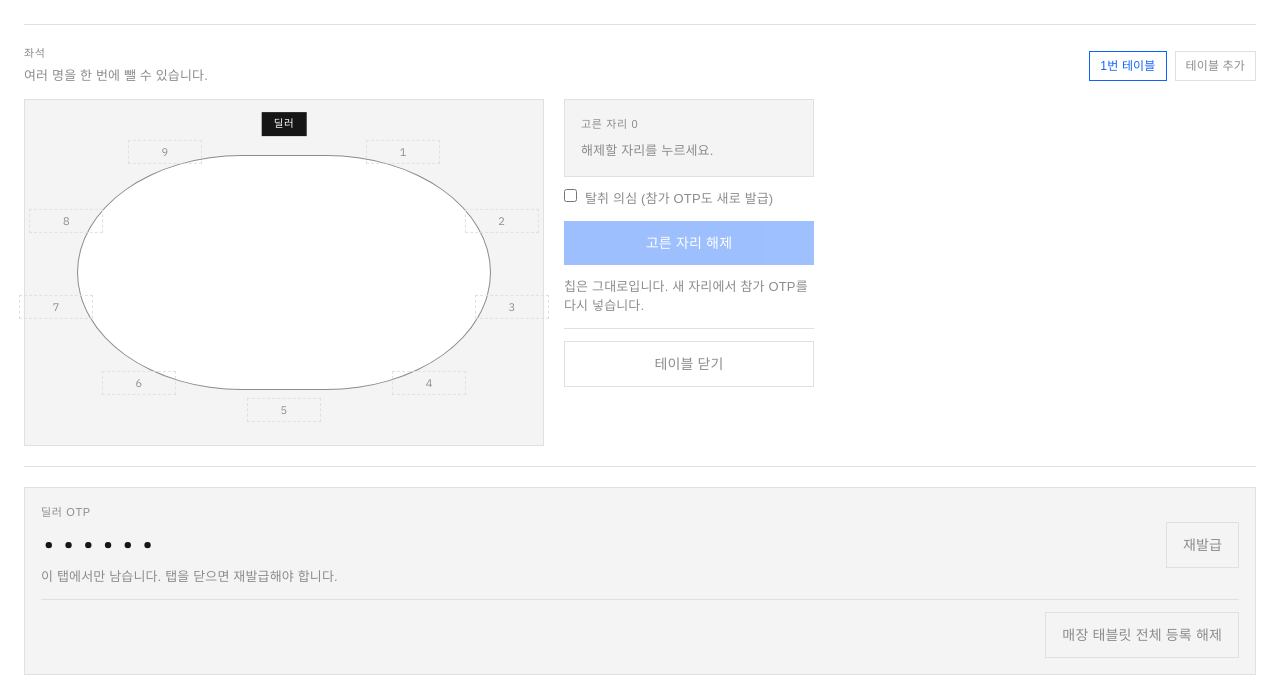
Test: ConsoleClient — 딜러 OTP › 재발급이 던져도 안내가 뜬다
(page scrolled)
Step 1. Click the button "재발급" → (1202,545), box [1166,522,1239,568]
(page scrolled)
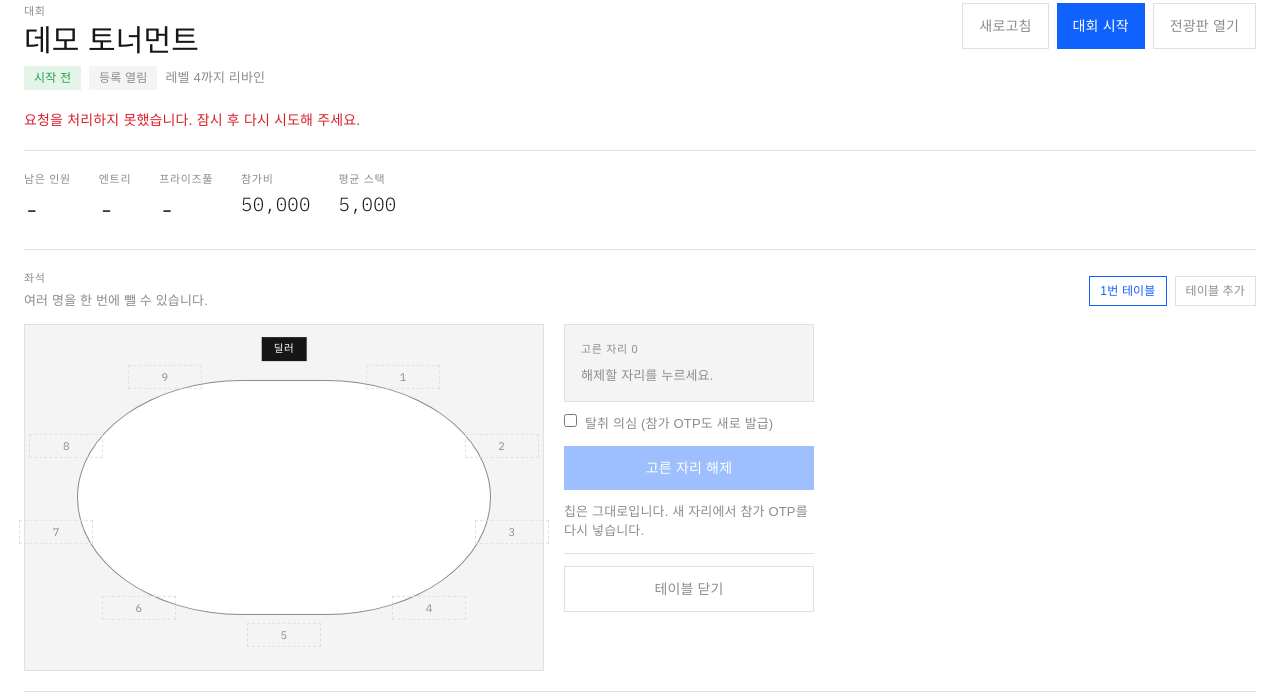
Result: the message reads "요청을 처리하지 못했습니다. 잠시 후 다시 시도해 주세요." at [24,112,360,128]
